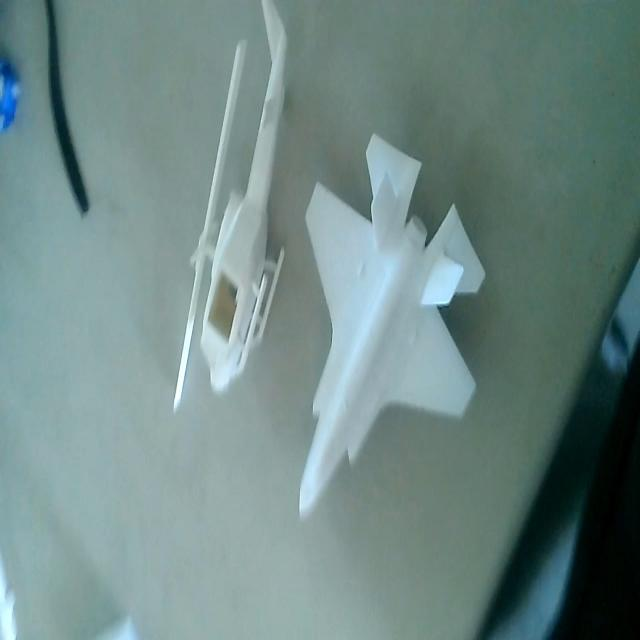Helicopter: (174, 0, 294, 421)
Jet: (300, 122, 485, 508)
